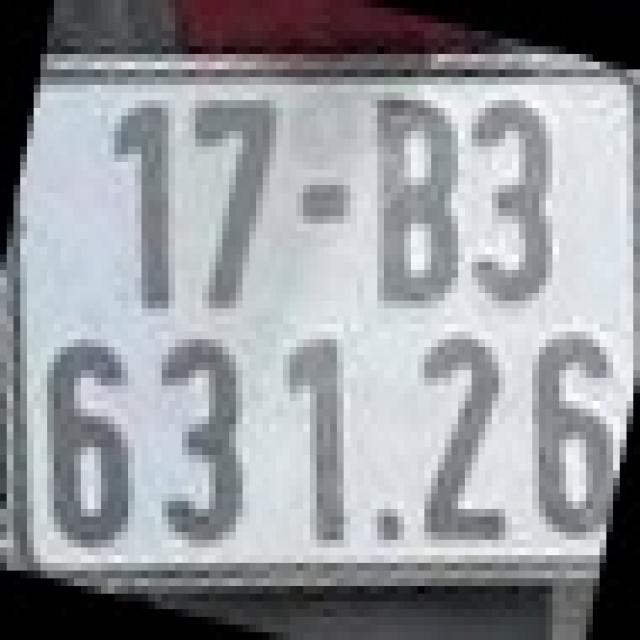1: (283, 332, 357, 540), (108, 100, 182, 308)
2: (411, 324, 512, 540)
3: (155, 332, 249, 540), (465, 92, 559, 300)
6: (40, 340, 135, 548), (526, 324, 613, 540)
7: (189, 92, 276, 308)
B: (370, 92, 465, 308)
